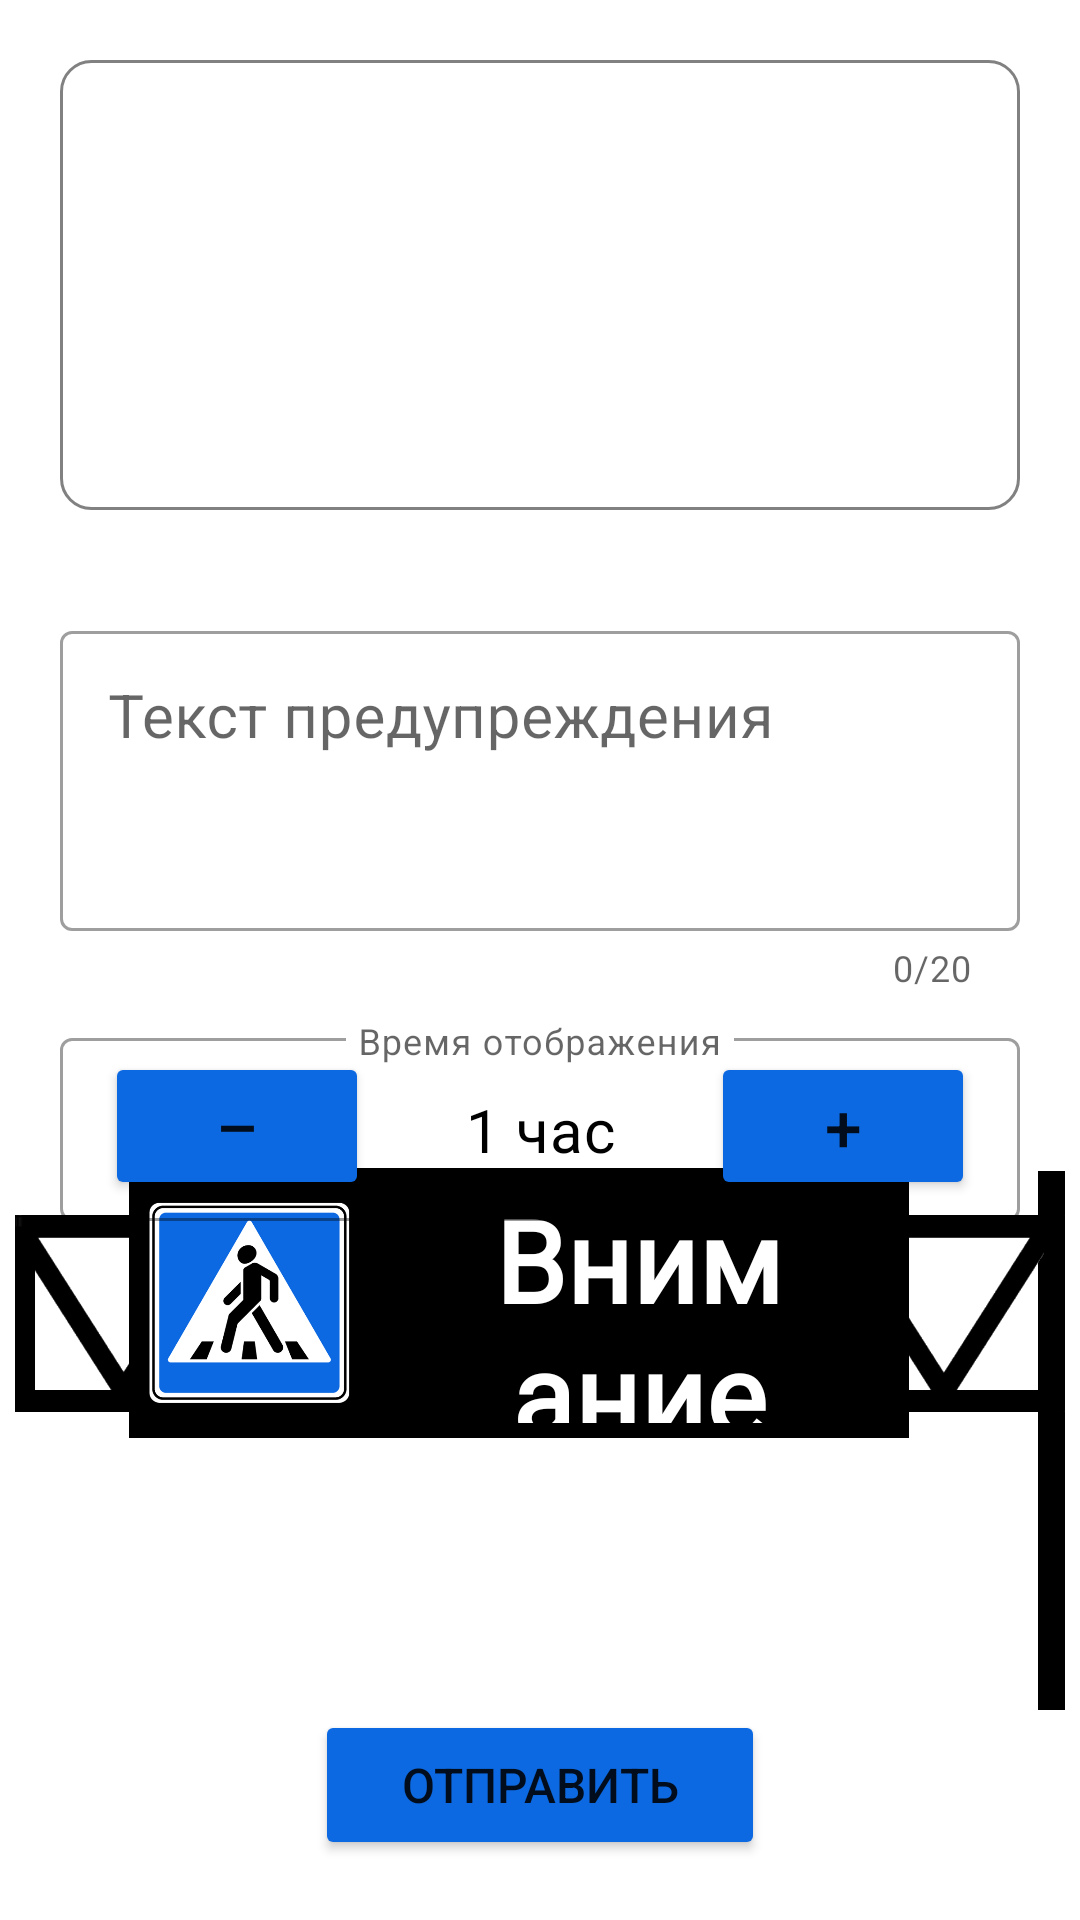

Point at icon controls on the screen. Image size 1080*1920, points as point (x, y).
perehod: point (249, 1303)
